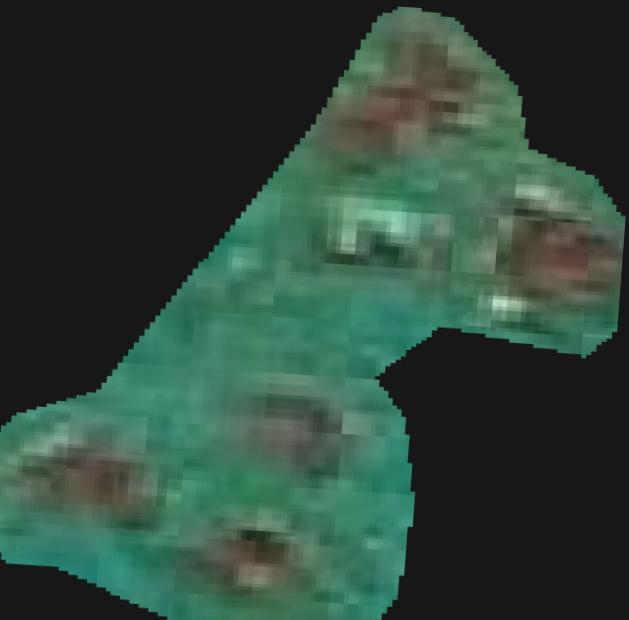Pitting Corrosion: (0, 1, 628, 620)
